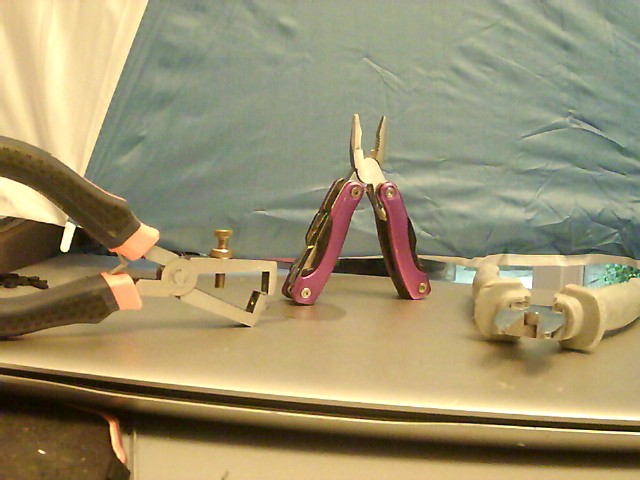pliers: (277, 110, 432, 307), (470, 257, 640, 355)
